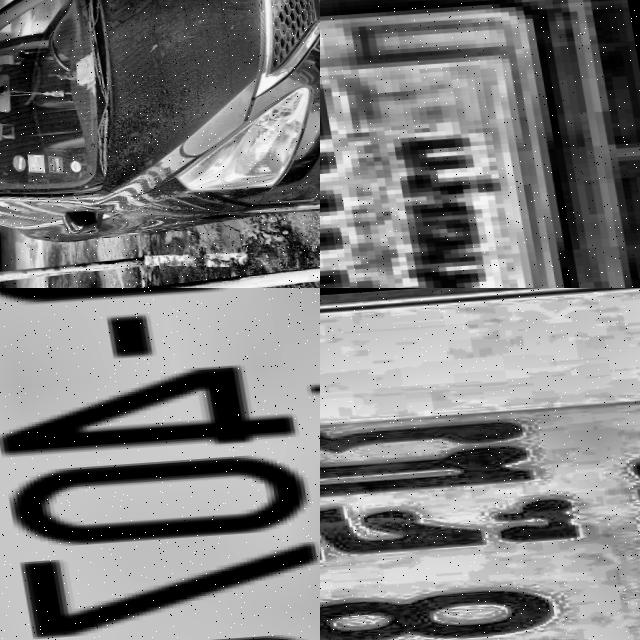license-plate: (0, 288, 320, 640), (320, 288, 640, 640), (320, 0, 611, 288)
